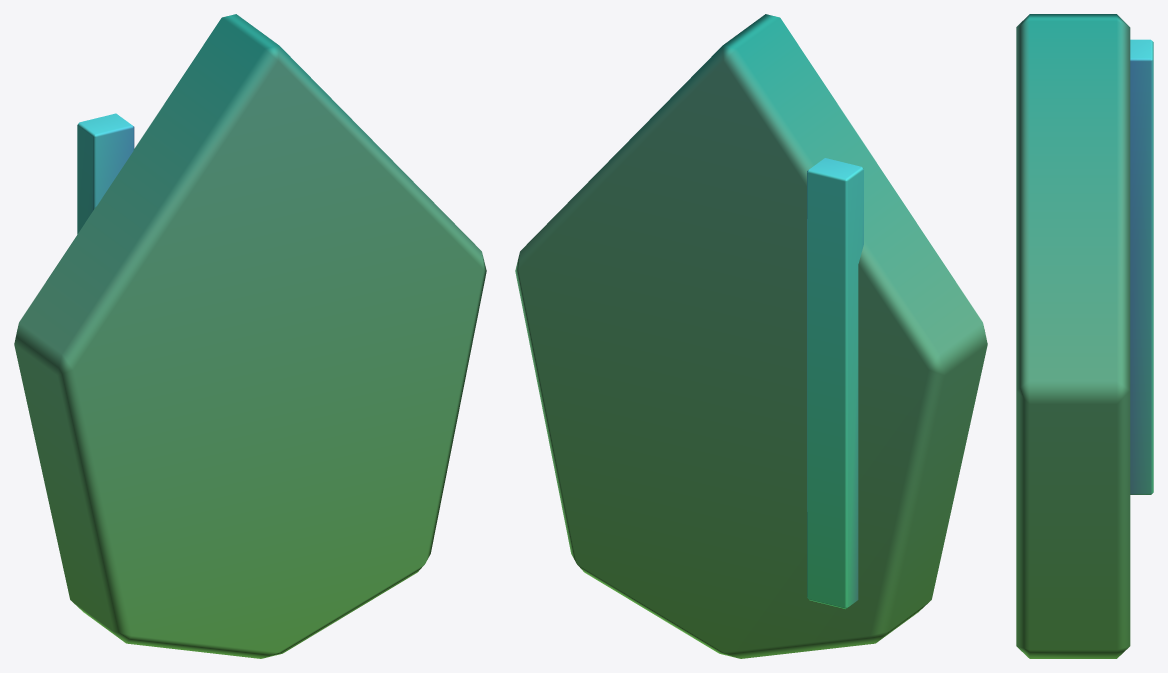
The model's file is kit_boss_core_door_l.glb.
The picture shows the model from 3 angles, left to right: view 1: azimuth 30°, elevation 25°; view 2: azimuth 150°, elevation 25°; view 3: azimuth 270°, elevation 25°; orthographic projection.
Parts seen in each view (by area): view 1: Body__armor, Body__emit_core; view 2: Body__armor, Body__emit_core; view 3: Body__armor, Body__emit_core.
Boxes of the visible parts, bbox=[...] form: Body__armor: bbox=[14, 14, 486, 658]; Body__emit_core: bbox=[77, 113, 134, 234]; Body__armor: bbox=[515, 14, 987, 658]; Body__emit_core: bbox=[807, 158, 863, 608]; Body__armor: bbox=[1016, 14, 1130, 658]; Body__emit_core: bbox=[1130, 39, 1153, 494].
Size of the model in its own units: 0.3757 by 0.5091 by 0.1025.
